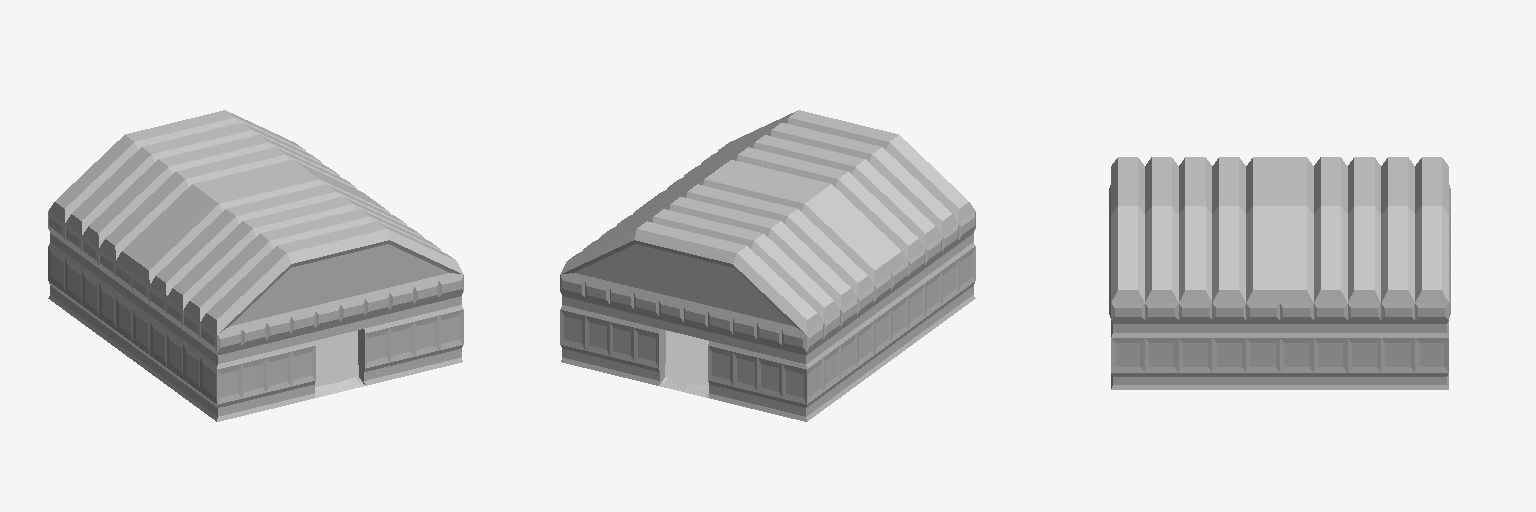
Rendered from Room.obj.
3 renders of one model, left to right at view 1: azimuth 30°, elevation 25°; view 2: azimuth 150°, elevation 25°; view 3: azimuth 270°, elevation 25°, orthographic.
Visible parts, largest first — view 1: Warehouse_body_Cube.006; view 2: Warehouse_body_Cube.006; view 3: Warehouse_body_Cube.006.
Part boxes in pixels (x1,y1,x2,y2): Warehouse_body_Cube.006: (48, 110, 463, 421); Warehouse_body_Cube.006: (560, 110, 975, 421); Warehouse_body_Cube.006: (1109, 157, 1450, 389).
Bounding box in the file's own units: 457 × 261 × 543.